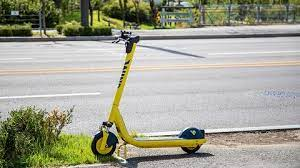kick_board: (92, 34, 205, 157)
kick_body: (92, 132, 117, 156), (180, 128, 204, 152), (132, 137, 181, 147)
kick_handler: (112, 32, 140, 50)
kick_neck: (111, 53, 132, 119)
